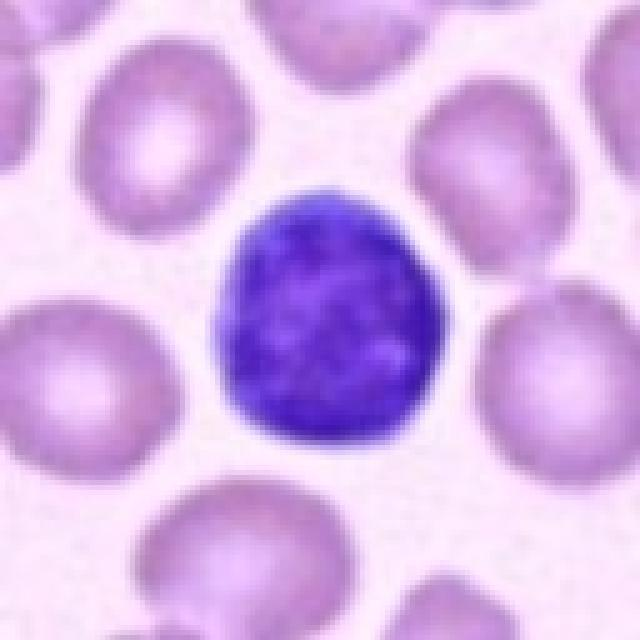lympho: (206, 180, 454, 447)
